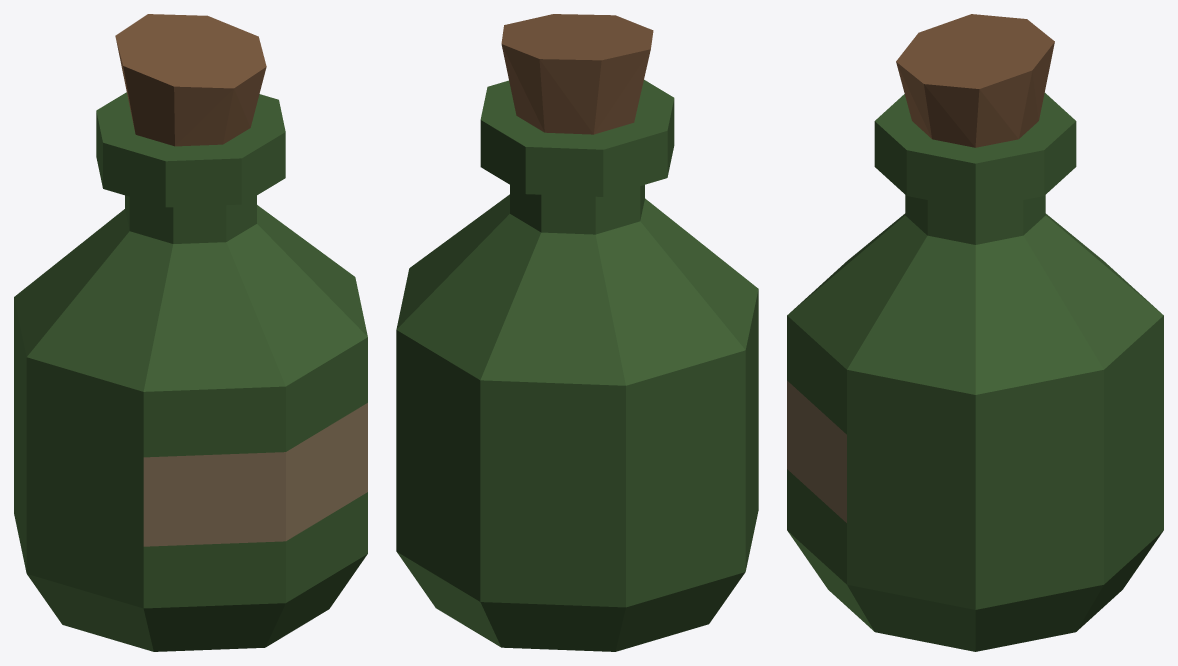
File: SM_Item_Potion_06.gltf
The picture shows the model from 3 angles, left to right: view 1: azimuth 30°, elevation 25°; view 2: azimuth 150°, elevation 25°; view 3: azimuth 270°, elevation 25°; orthographic projection. The views are drawn at different scales.
Parts seen in each view (by area): view 1: SM_Item_Potion_06; view 2: SM_Item_Potion_06; view 3: SM_Item_Potion_06.
Part boxes in pixels (left/top/right/bottom): SM_Item_Potion_06: left=14, top=14, right=367, bottom=651; SM_Item_Potion_06: left=396, top=14, right=758, bottom=651; SM_Item_Potion_06: left=787, top=14, right=1163, bottom=651.
Bounding box in the file's own units: 0.169 × 0.2706 × 0.169.
1 material, 1 textured.
